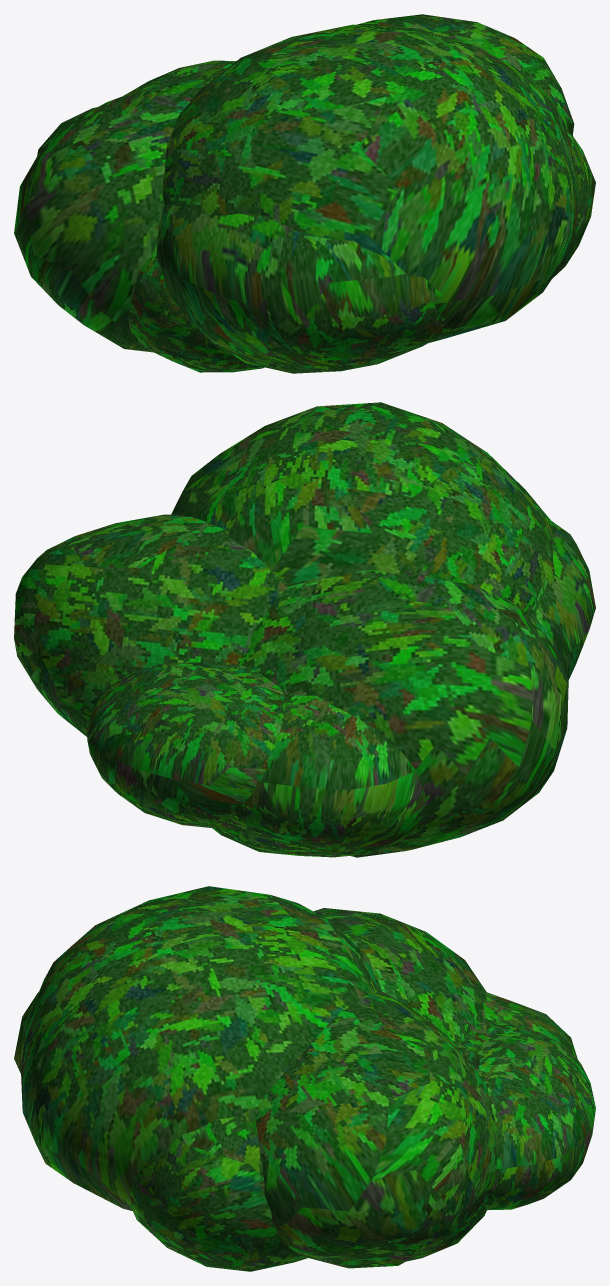
Rendered from plant_bushDense.glb.
The picture shows the model from 3 angles, top to bottom: view 1: azimuth 30°, elevation 25°; view 2: azimuth 150°, elevation 25°; view 3: azimuth 270°, elevation 25°; orthographic projection.
Parts seen in each view (by area): view 1: Canopy_7, Canopy_6, Canopy_4, Canopy_5, Canopy_0, Canopy_8, Canopy_2; view 2: Canopy_4, Canopy_7, Canopy_0, Canopy_2, Canopy_3, Canopy_6; view 3: Canopy_7, Canopy_0, Canopy_8, Canopy_2, Canopy_4, Canopy_3, Canopy_1.
Boxes of the visible parts, box(x1,y1,x2,y2) form: Canopy_7: box(162, 24, 578, 342); Canopy_6: box(156, 205, 444, 373); Canopy_4: box(14, 69, 225, 352); Canopy_5: box(128, 244, 264, 372); Canopy_0: box(356, 14, 574, 135); Canopy_8: box(552, 130, 595, 278); Canopy_2: box(123, 60, 235, 95); Canopy_4: box(239, 569, 568, 857); Canopy_7: box(171, 402, 557, 618); Canopy_0: box(14, 514, 289, 736); Canopy_2: box(86, 662, 283, 827); Canopy_3: box(212, 690, 425, 857); Canopy_6: box(531, 521, 595, 680); Canopy_7: box(20, 886, 378, 1210); Canopy_0: box(256, 990, 496, 1268); Canopy_8: box(130, 1106, 307, 1271); Canopy_2: box(457, 1024, 595, 1210); Canopy_4: box(314, 908, 486, 1045); Canopy_3: box(480, 992, 577, 1058); Canopy_1: box(406, 1203, 486, 1261).
Size of the model in its own units: 1.74 by 1.03 by 1.69.
Materials: 2 (2 with a texture image).
